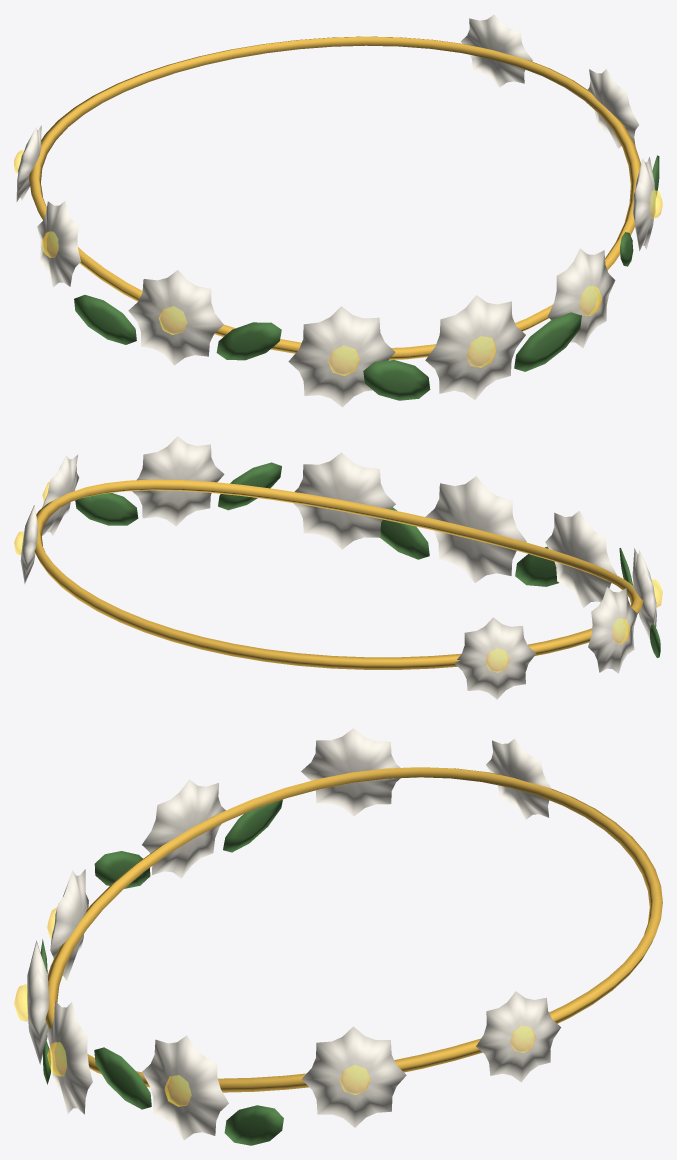
The model's file is daisy_necklace.glb.
3 renders of one model, top to bottom at view 1: azimuth 30°, elevation 25°; view 2: azimuth 150°, elevation 25°; view 3: azimuth 270°, elevation 25°, orthographic. The views are drawn at different scales.
Visible parts, largest first — view 1: daisy_necklace; view 2: daisy_necklace; view 3: daisy_necklace.
Part boxes in pixels (<box>): daisy_necklace: <box>14,14,662,407</box>; daisy_necklace: <box>14,436,662,699</box>; daisy_necklace: <box>14,728,662,1145</box>.
Bounding box in the file's own units: 0.0851 × 0.0244 × 0.0724.
